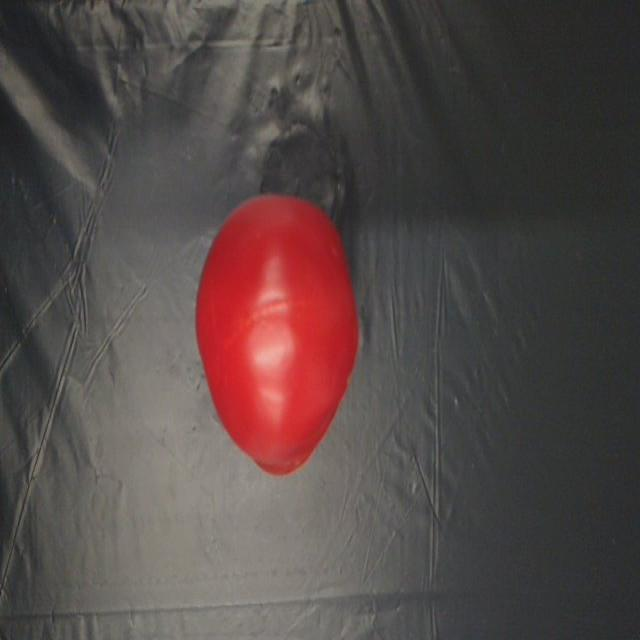kirmizi: (163, 183, 378, 482)
